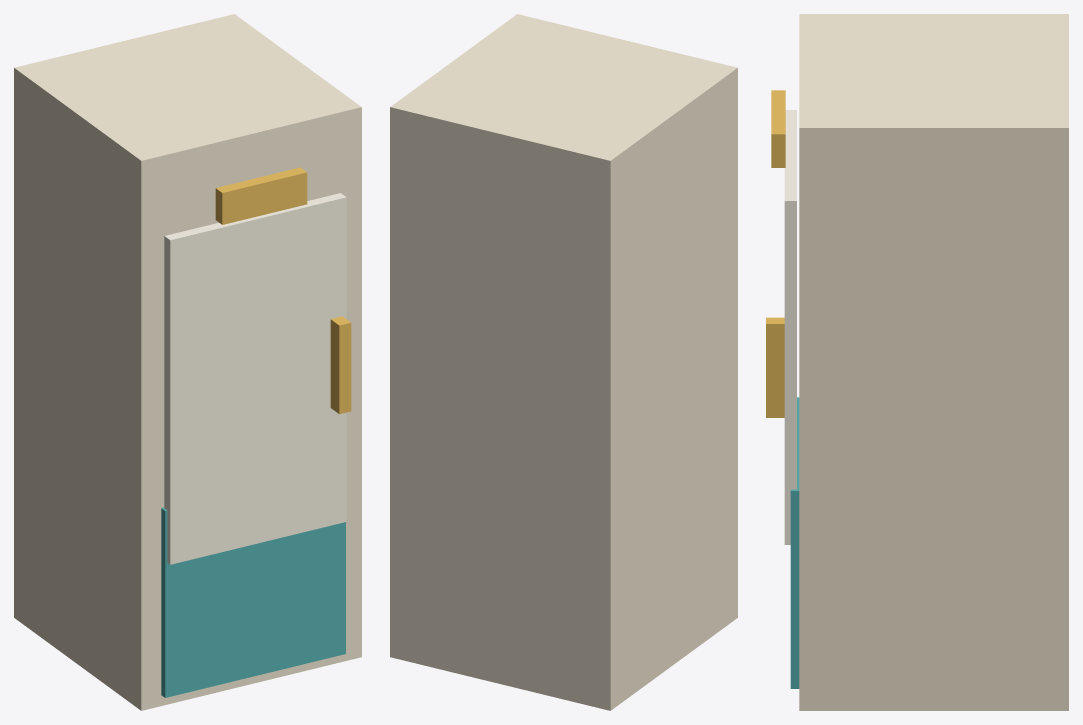
The model's file is fridge_cream.glb.
The picture shows the model from 3 angles, left to right: view 1: azimuth 30°, elevation 25°; view 2: azimuth 150°, elevation 25°; view 3: azimuth 270°, elevation 25°; orthographic projection. The views are drawn at different scales.
Parts seen in each view (by area): view 1: fridge_cream; view 2: fridge_cream; view 3: fridge_cream.
Boxes of the visible parts, <box> form: fridge_cream: <box>14,14,361,710</box>; fridge_cream: <box>390,14,737,710</box>; fridge_cream: <box>766,14,1068,710</box>.
Bounding box in the file's own units: 0.65 × 1.55 × 0.73.
